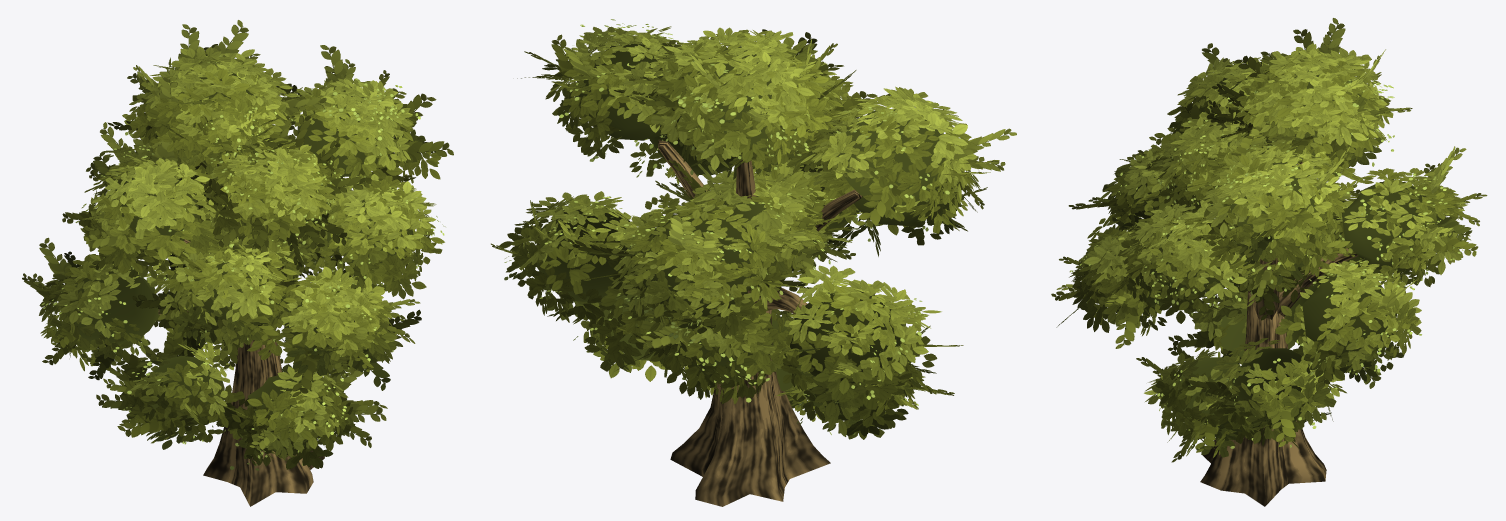
File: AraTree05.glb
3 renders of one model, left to right at view 1: azimuth 30°, elevation 25°; view 2: azimuth 150°, elevation 25°; view 3: azimuth 270°, elevation 25°, orthographic. The views are drawn at different scales.
Parts seen in each view (by area): view 1: AraTree05_leaves; view 2: AraTree05_leaves; view 3: AraTree05_leaves.
Boxes of the visible parts, x1=… form: AraTree05_leaves: x1=22, y1=20, x2=453, y2=506; AraTree05_leaves: x1=491, y1=19, x2=1016, y2=506; AraTree05_leaves: x1=1051, y1=18, x2=1487, y2=506.
Size of the model in its own units: 8.4 by 8.33 by 7.93.
Materials: 3 (2 with a texture image).
